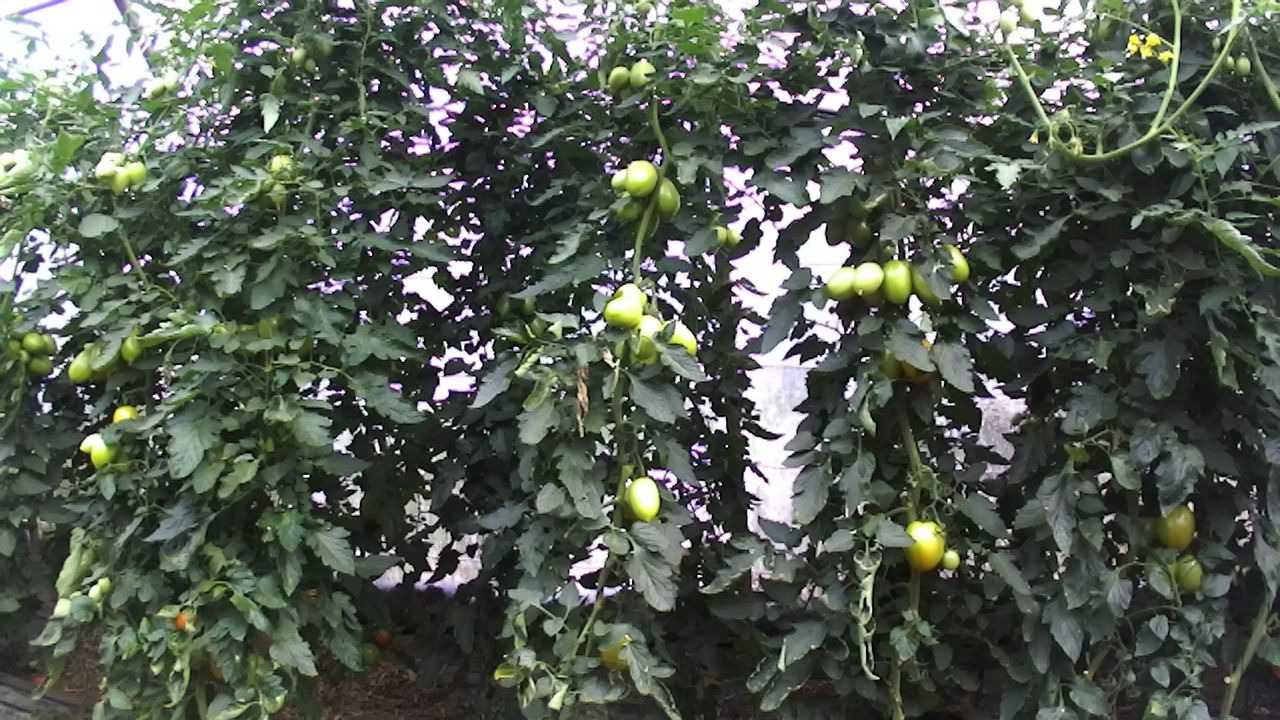tomato: (899, 515, 950, 575), (1156, 498, 1199, 555), (625, 474, 662, 526), (1169, 551, 1208, 594), (601, 292, 645, 330), (619, 157, 658, 199), (934, 241, 971, 285), (879, 257, 913, 304), (654, 174, 684, 222), (65, 345, 97, 387), (849, 262, 885, 299), (822, 265, 859, 301), (627, 58, 658, 91), (21, 328, 48, 357), (605, 63, 630, 90), (92, 157, 116, 182), (941, 547, 961, 574), (1232, 55, 1253, 76)
